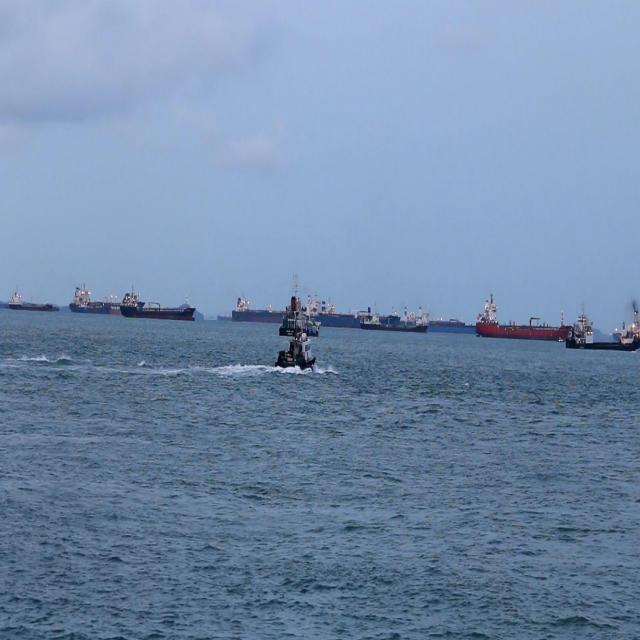ship2: (475, 292, 573, 341), (119, 285, 196, 321), (274, 333, 316, 374), (279, 294, 319, 337)
